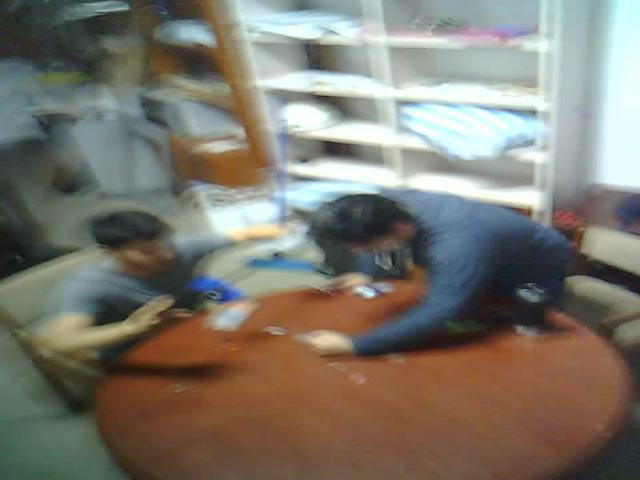person: (252, 96, 598, 380), (11, 164, 306, 412)
